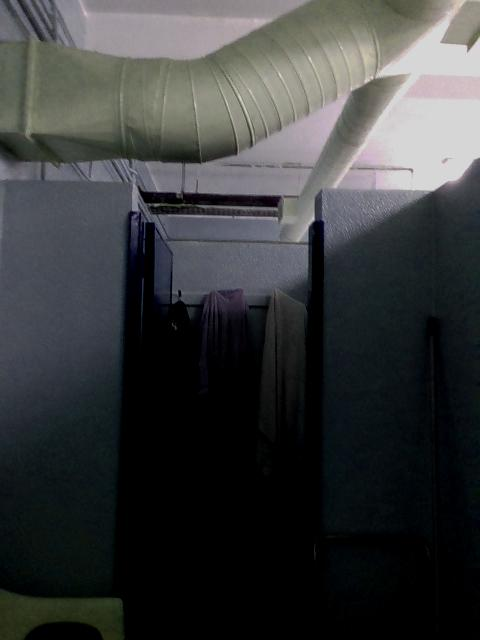open_door: (119, 184, 324, 638)
